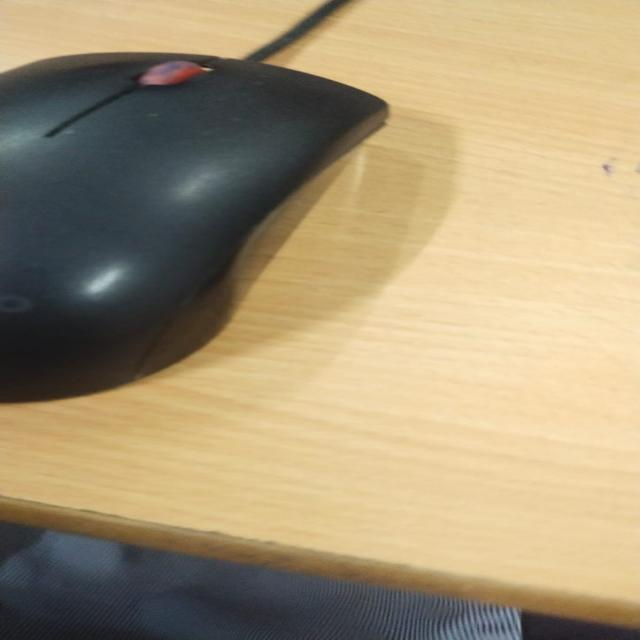Mouse: (1, 0, 420, 393)
